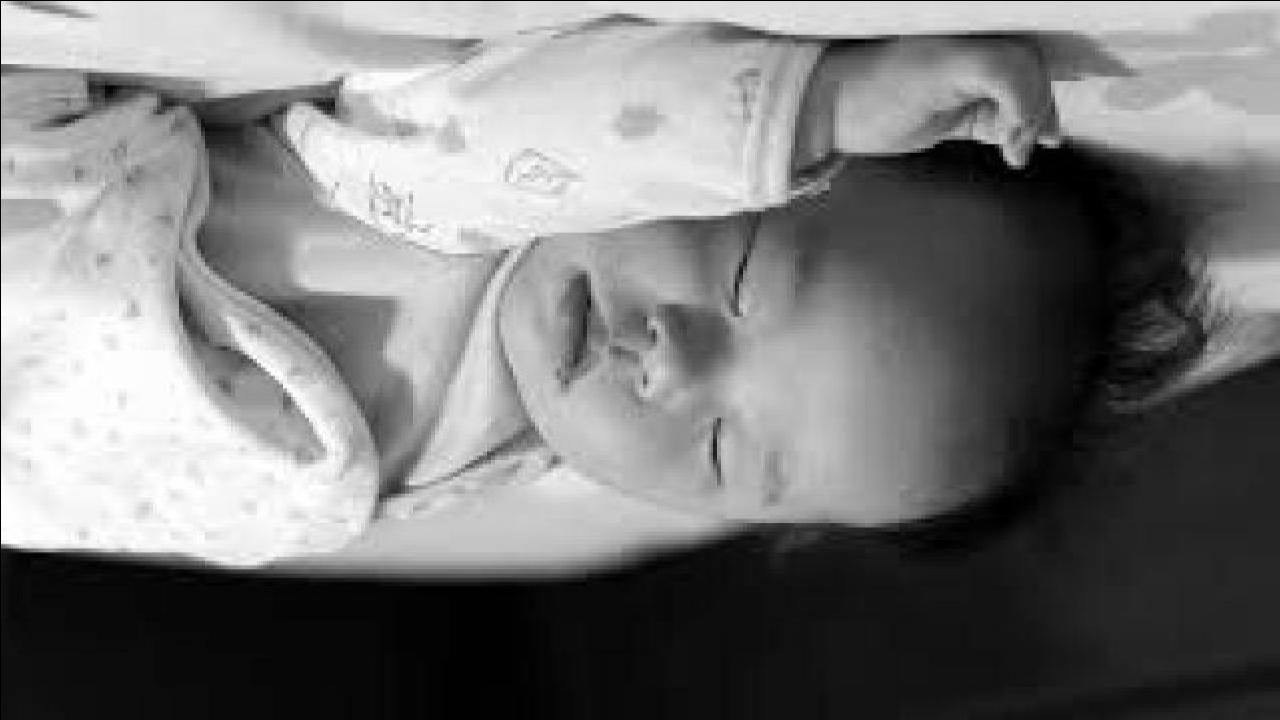hand: (822, 27, 1072, 175)
